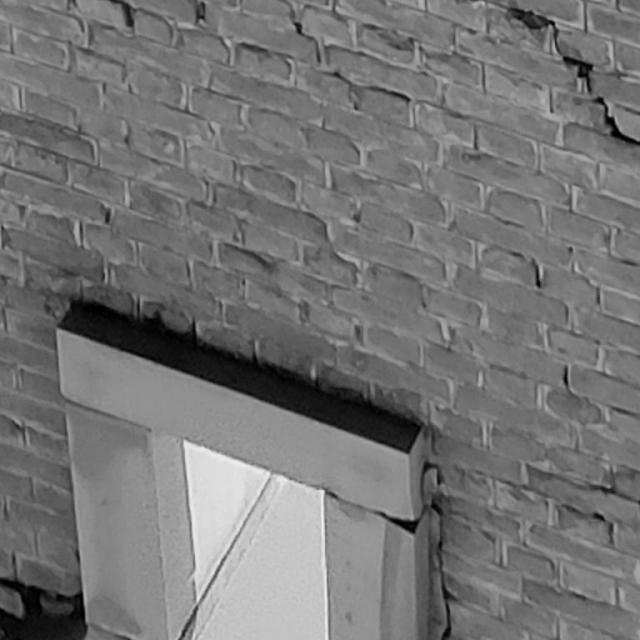crack: (507, 8, 639, 146), (1, 576, 87, 640), (431, 501, 453, 640)
